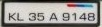character: (28, 11, 37, 21), (49, 12, 58, 21), (37, 11, 45, 21), (62, 11, 70, 21), (87, 11, 95, 21), (8, 12, 16, 21), (16, 12, 24, 21), (79, 12, 87, 21), (72, 11, 77, 20)
